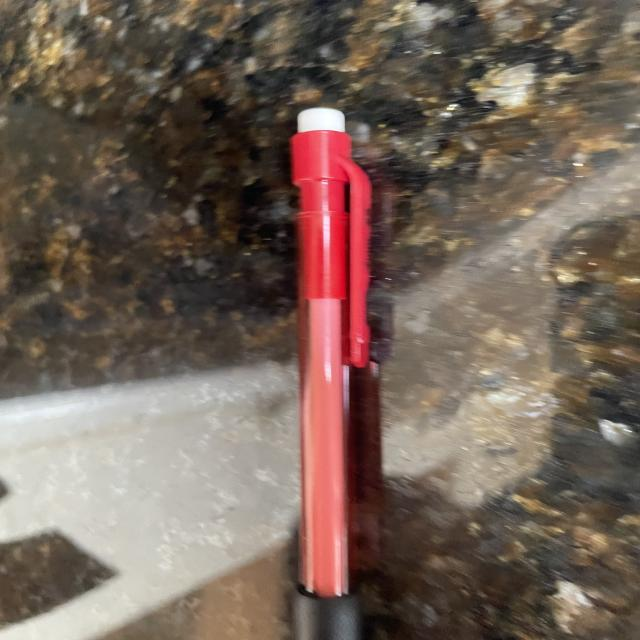mechanical-pencils: (285, 115, 369, 640)
